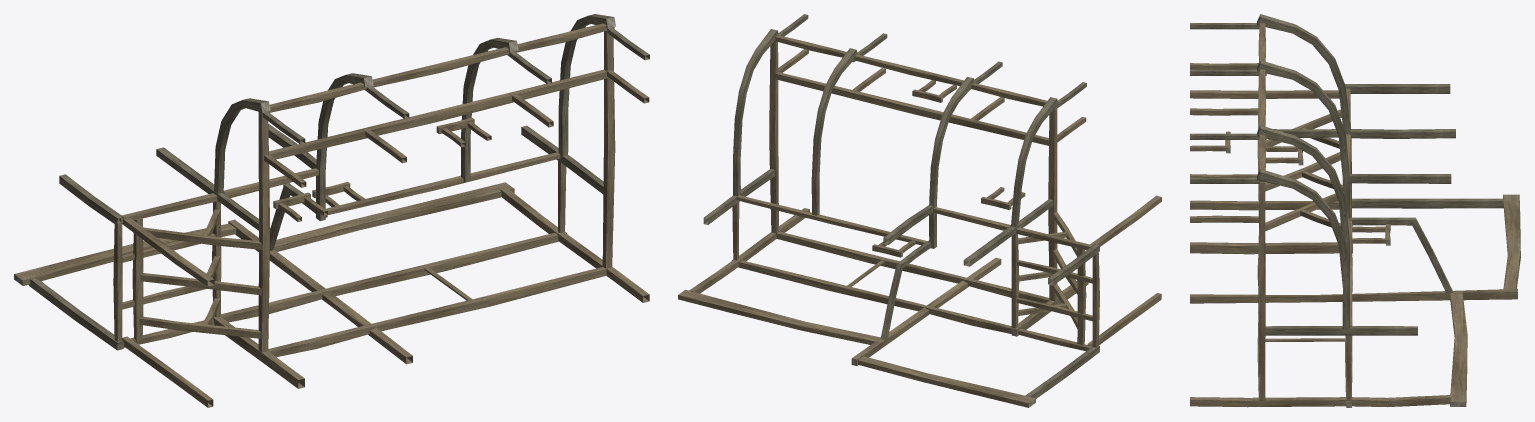
The model's file is Pirate_Bar_Structure_B.fbx.
The picture shows the model from 3 angles, left to right: view 1: azimuth 30°, elevation 25°; view 2: azimuth 150°, elevation 25°; view 3: azimuth 270°, elevation 25°; orthographic projection. The views are drawn at different scales.
Parts seen in each view (by area): view 1: Pirate_Bar_Structure_B; view 2: Pirate_Bar_Structure_B; view 3: Pirate_Bar_Structure_B.
Part boxes in pixels (x1,y1,x2,y2): Pirate_Bar_Structure_B: (14,14,649,407); Pirate_Bar_Structure_B: (678,14,1161,407); Pirate_Bar_Structure_B: (1190,14,1520,407).
Bounding box in the file's own units: 27.08 × 14.51 × 18.24.
